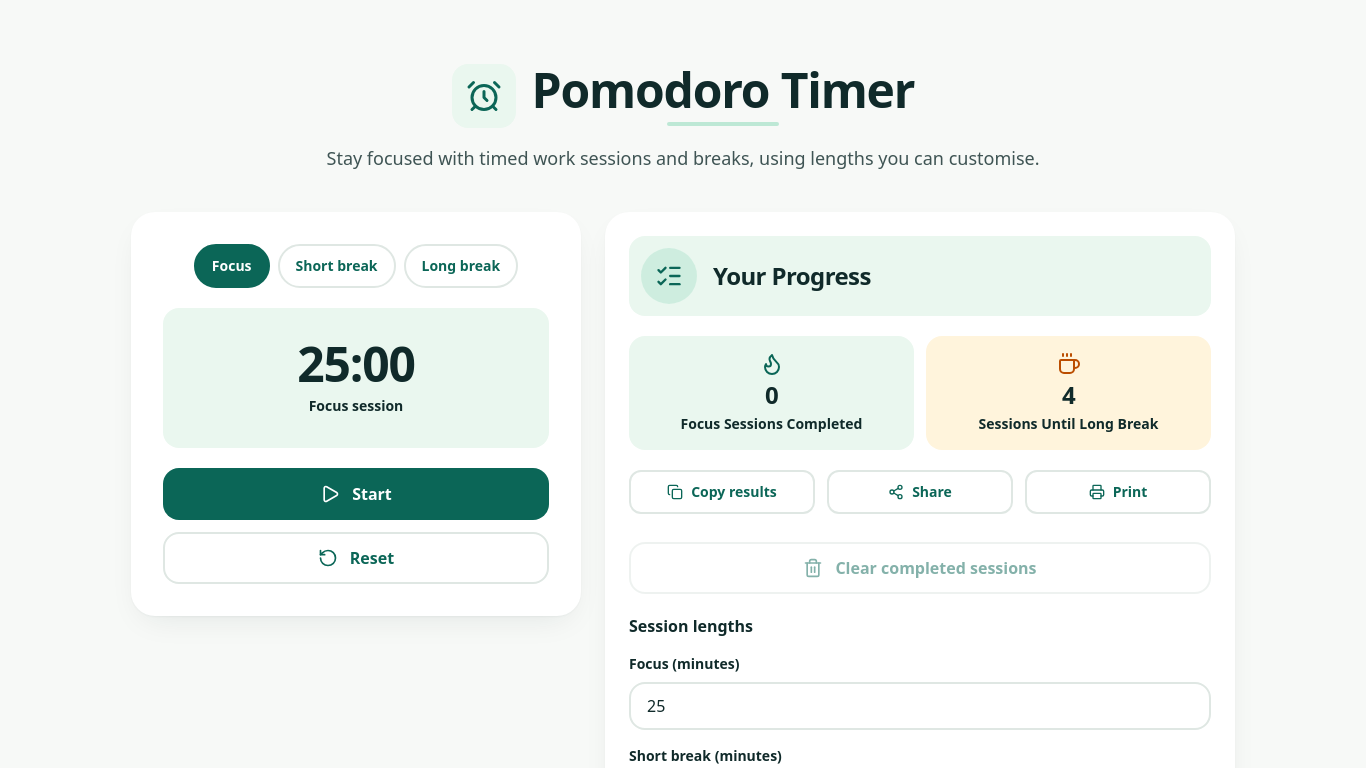
Test: Pomodoro Timer › returns to focus after a break, without counting the break
What coordinates should you click on to do the following:
click the button "Start"
I would click on:
 (356, 494)
Its box is [163,468,549,520].
Wait 1501000 ms
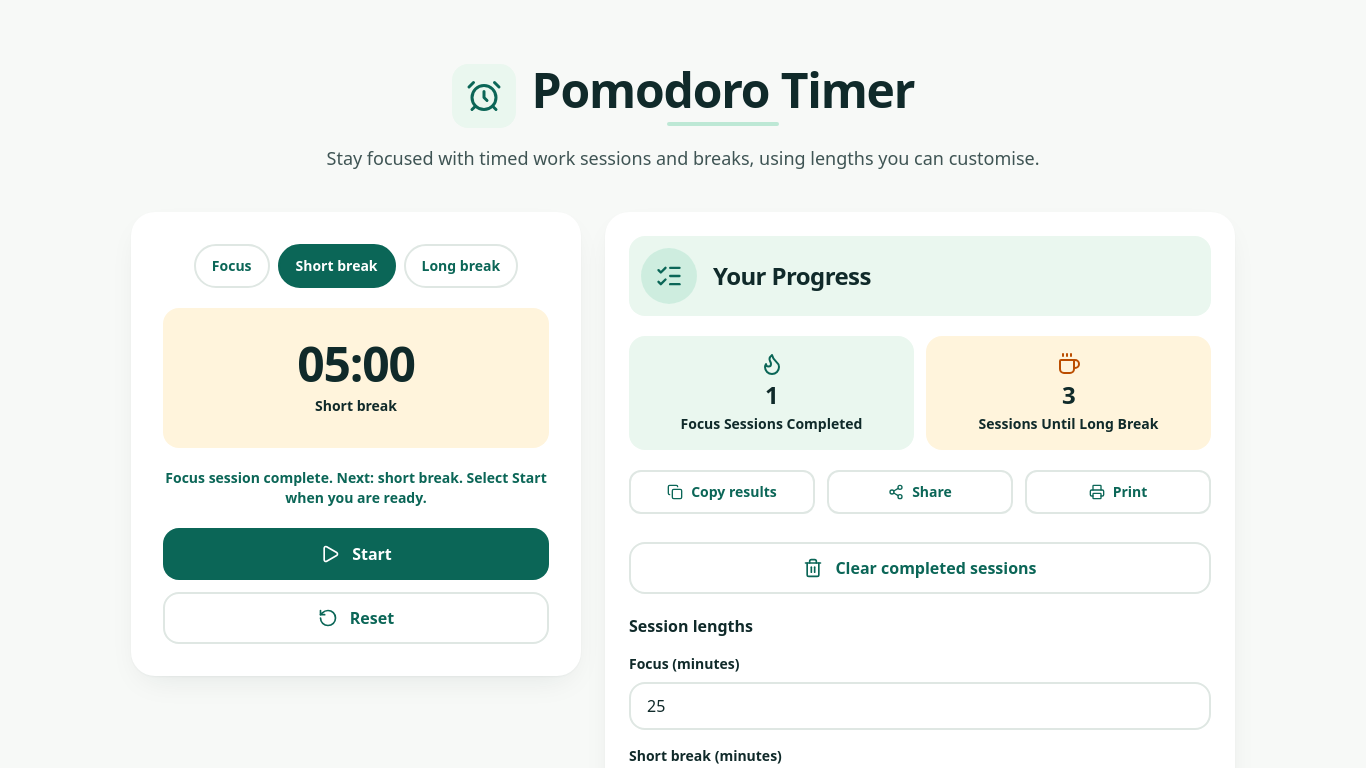
What coordinates should you click on to do the following:
click the button "Start"
I would click on:
 (356, 554)
Its box is [163,528,549,580].
Wait 301000 ms
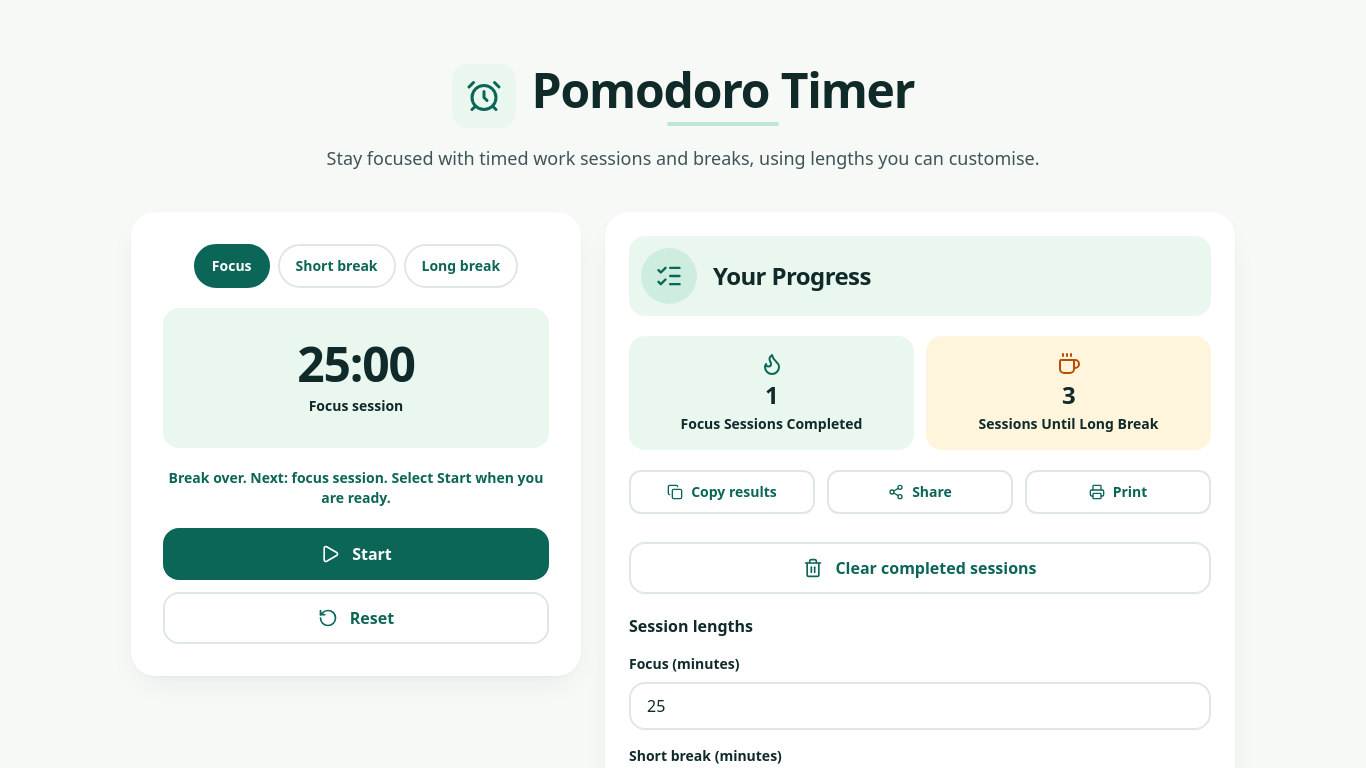
Expected: the message "Break over. Next: focus session. Select Start when you are ready." is shown, [163,468,549,508]
